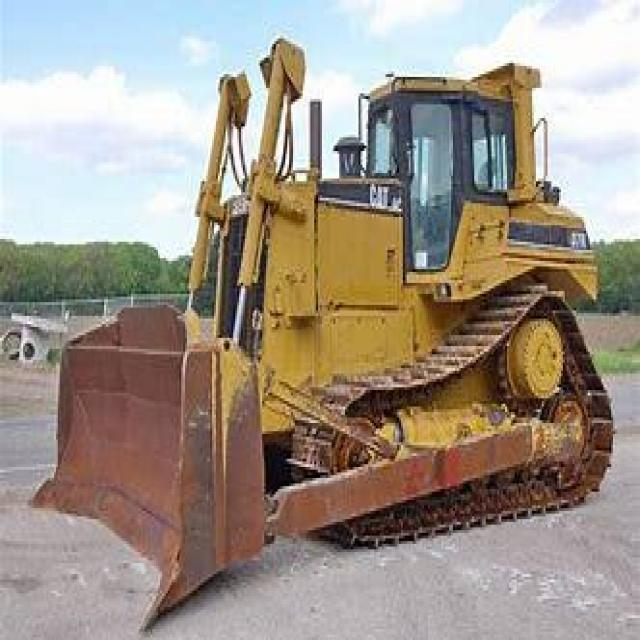Bulldozer: (38, 30, 617, 613)
